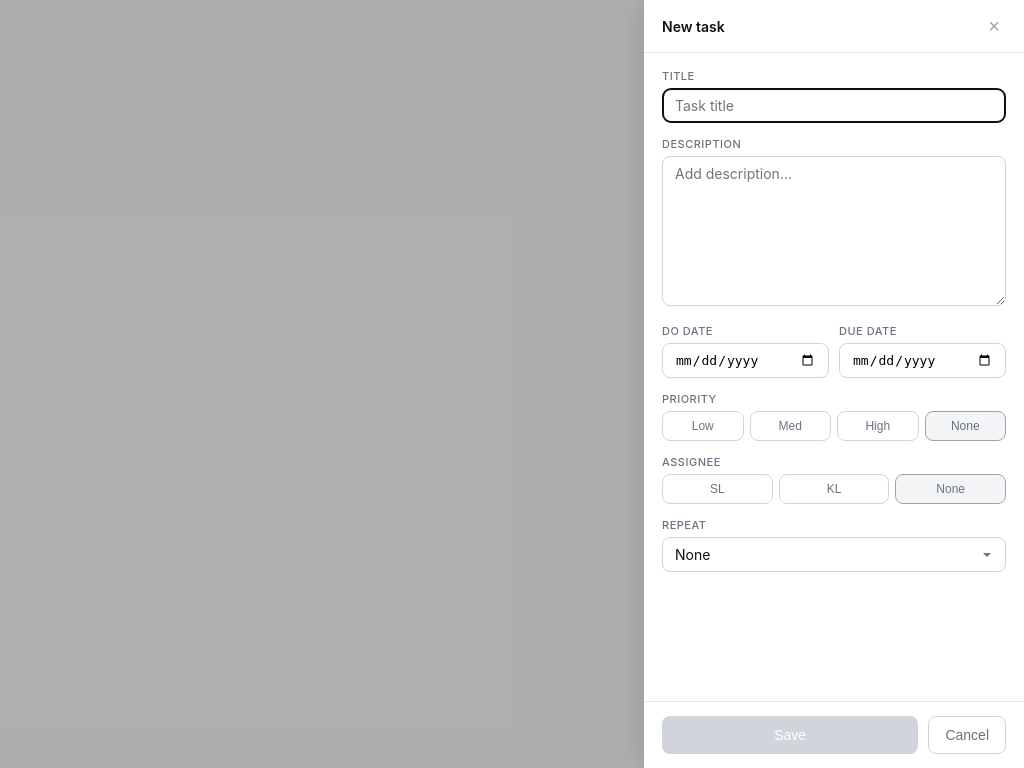
TaskDrawer — recurrence fields › shows interval input when Every X days is selected
Select "Every X days" in the dropdown labelled "Repeat" at point(834, 554), box [662, 537, 1006, 572]
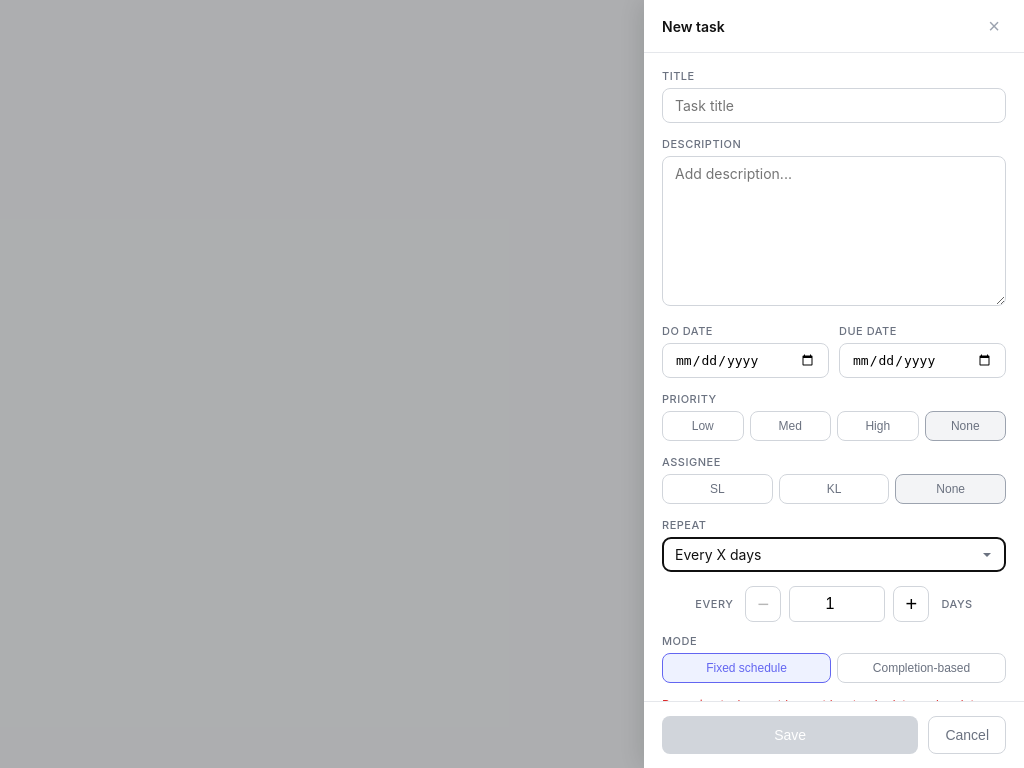
Expected: the number field is shown, [789, 586, 885, 622]
